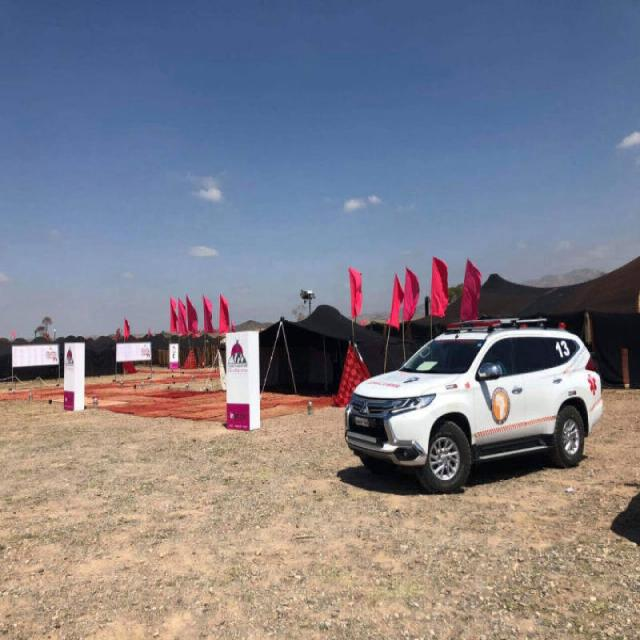ambulance: (346, 317, 603, 491)
